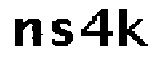4: (76, 6, 114, 48)
k: (117, 6, 149, 50)
n: (9, 16, 44, 51)
s: (48, 18, 75, 48)
